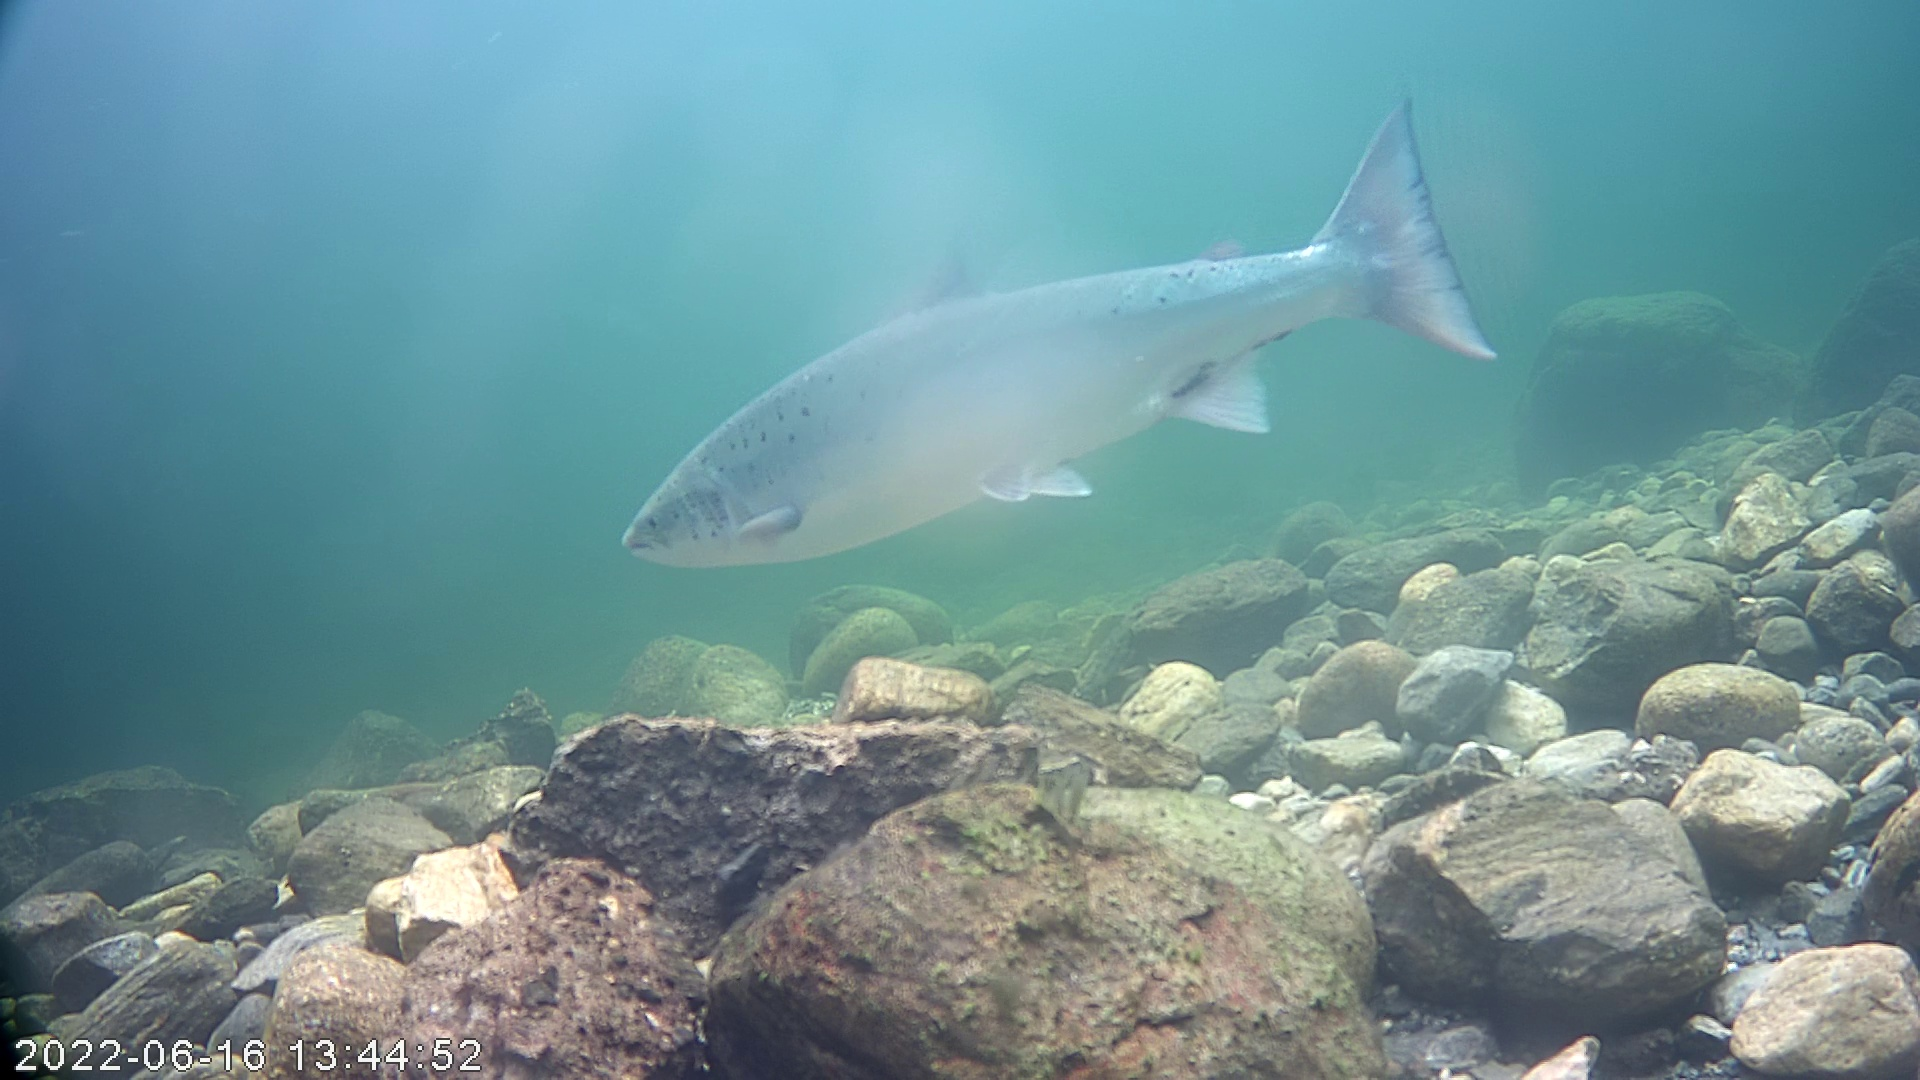salmon: (618, 94, 1501, 574)
